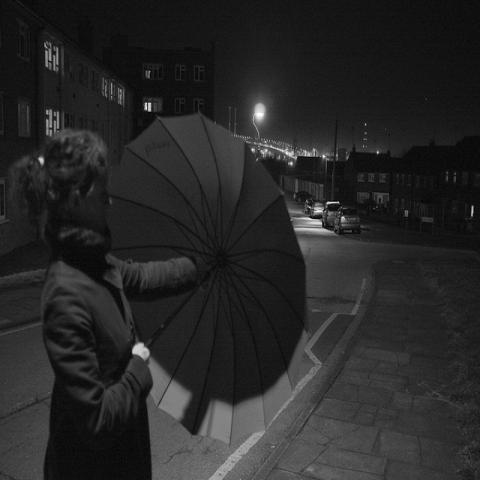car: (334, 206, 360, 234), (322, 200, 341, 228), (294, 190, 316, 204), (310, 202, 324, 218), (304, 198, 314, 214)
